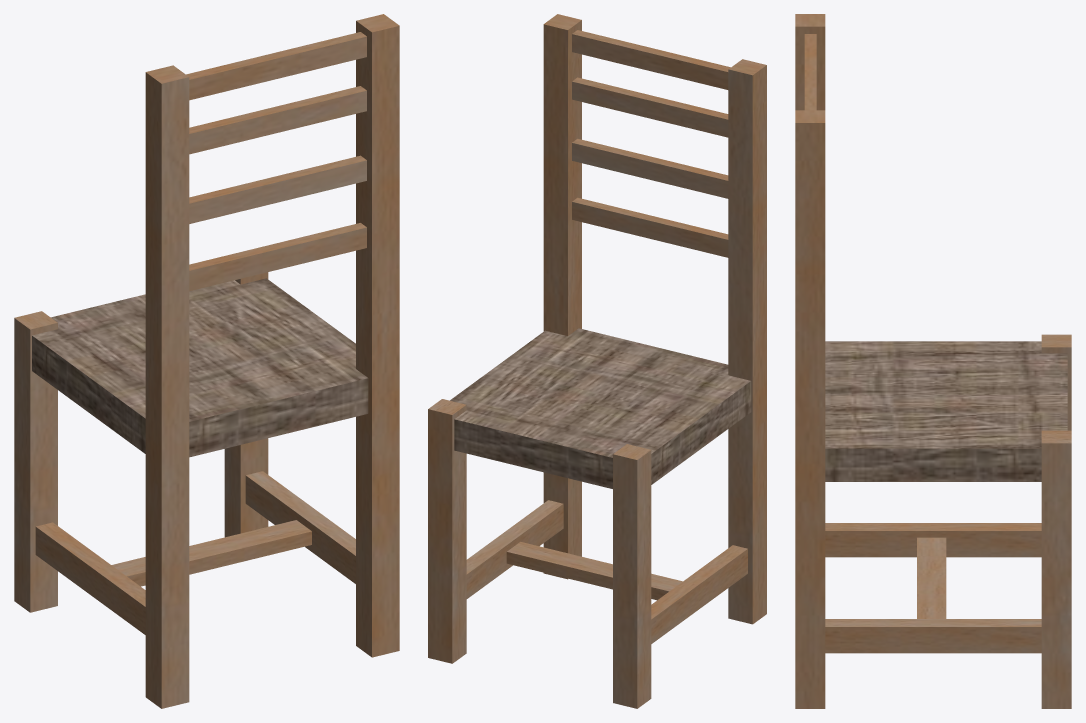
File: Chair_16.glb
3 renders of one model, left to right at view 1: azimuth 30°, elevation 25°; view 2: azimuth 150°, elevation 25°; view 3: azimuth 270°, elevation 25°, orthographic. The views are drawn at different scales.
Parts seen in each view (by area): view 1: Chair_16; view 2: Chair_16; view 3: Chair_16.
Boxes of the visible parts, x1,y1,x2,y2 form: Chair_16: [14, 14, 399, 708]; Chair_16: [428, 14, 766, 708]; Chair_16: [795, 14, 1071, 708].
Bounding box in the file's own units: 0.4683 × 1.17 × 0.5019.
Materials: 2 (2 with a texture image).
